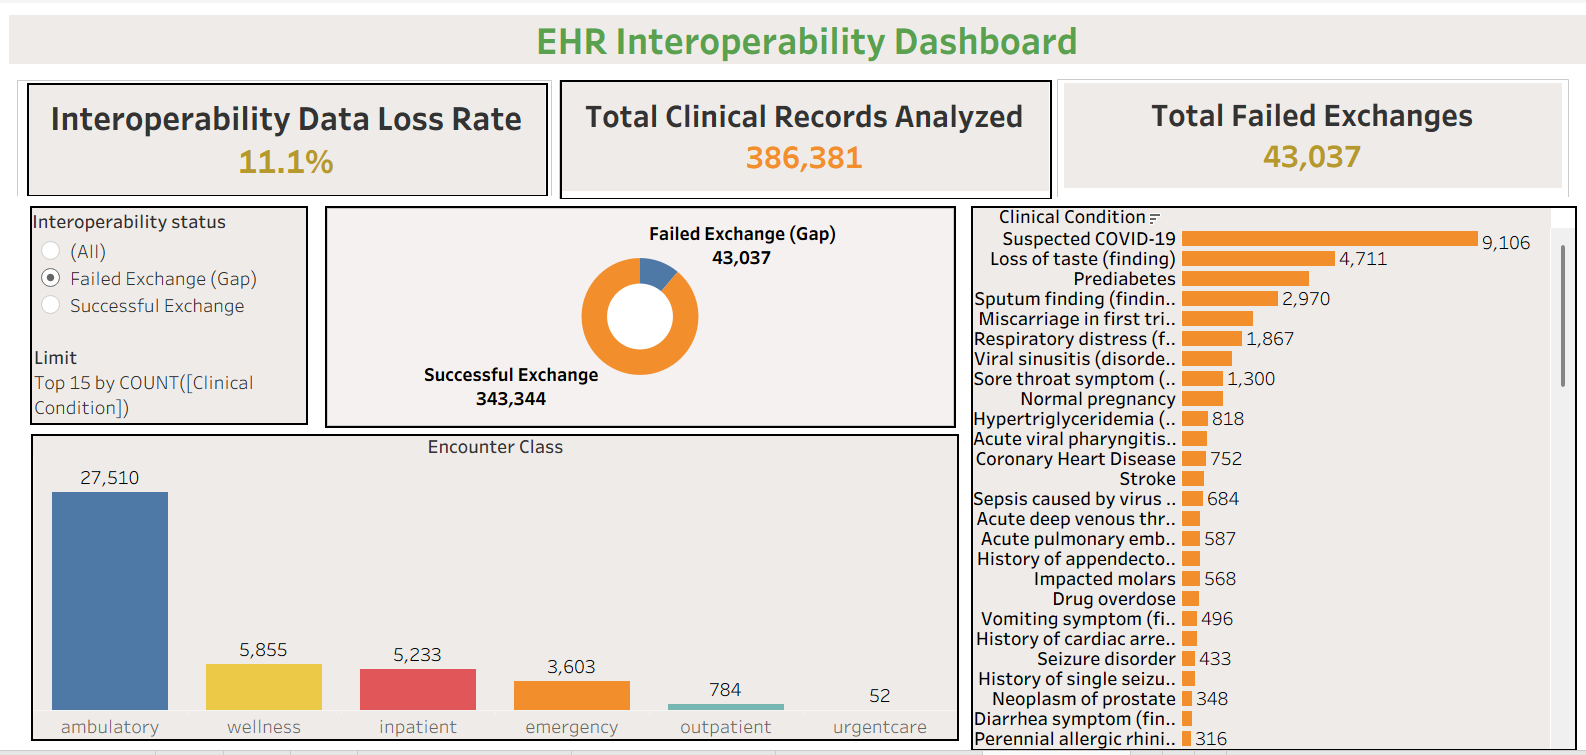

What the dashboard file says about the page in this screenshot:
{"tool":"tableau","page":{"name":"Dashboard 1","canvas":[1000,1000],"units":"permille","ordinal":0},"visuals":[{"type":"title","box":[4.9,10.7,990.1,76.3]},{"type":"worksheet","title":"KPI-2","mark":"Automatic","box":[347.5,102.7,303.7,160.3]},{"type":"worksheet","title":"KPI-1","mark":"Automatic","box":[18.5,106.9,321.6,152.1]},{"type":"worksheet","title":"KPI-3","mark":"Automatic","box":[658.6,106.9,308,146.6]},{"type":"filter","title":"Chart 2 - Clinical Risk","param":"[federated.13dzx2s0k8pxtv1gwax5s0gqybys].[none:Interoperability_status:nk]","box":[20.4,271.2,171.6,293.2]},{"type":"worksheet","title":"Chart 1 - Status Donut","mark":"Pie","cols":["Calculation_1467352383647748","Calculation_1467352383774727"],"box":[202.5,271.2,389.5,297.3]},{"type":"worksheet","title":"Chart 2 - Clinical Risk","mark":"Automatic","rows":["Clinical_Condition"],"cols":["Clinical_Condition"],"box":[601.2,271.2,374.1,730.1]},{"type":"worksheet","title":"Chart 3 - Care Setting","mark":"Automatic","rows":["Clinical_Condition"],"cols":["Encounter_Class"],"box":[21,576.7,572.8,411]}]}

Visuals, with their boxes on the dashboard's canvas, which has no fixed pixel size, in thousandths of its width and height (x1, y1, x2, y2). These are canvas units, not pixel positions in the 1586x755 screenshot, which may show the page scaled, cropped or inside an application window:
title: crop(5, 11, 995, 87)
"KPI-2" worksheet: crop(348, 103, 651, 263)
"KPI-1" worksheet: crop(18, 107, 340, 259)
"KPI-3" worksheet: crop(659, 107, 967, 254)
"Chart 2 - Clinical Risk" filter: crop(20, 271, 192, 564)
"Chart 1 - Status Donut" worksheet (Pie marks): crop(202, 271, 592, 568)
"Chart 2 - Clinical Risk" worksheet: crop(601, 271, 975, 1001)
"Chart 3 - Care Setting" worksheet: crop(21, 577, 594, 988)
